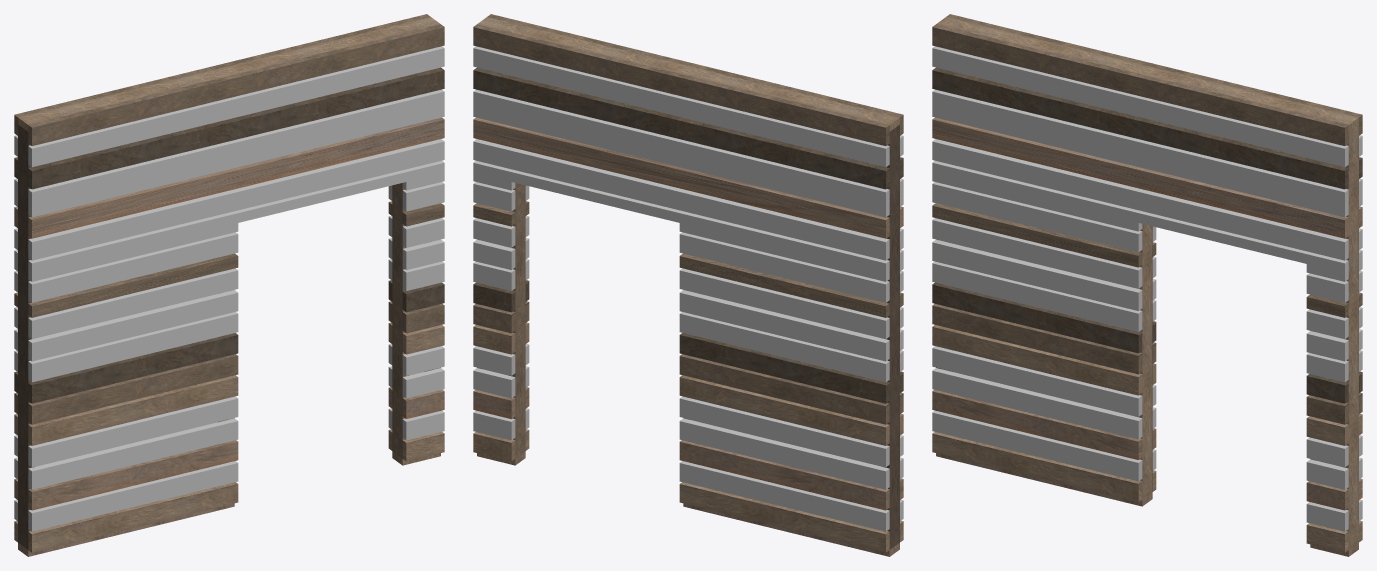
File: WallPeiceDoorwayD.fbx
The picture shows the model from 3 angles, left to right: view 1: azimuth 30°, elevation 25°; view 2: azimuth 150°, elevation 25°; view 3: azimuth 330°, elevation 25°; orthographic projection.
Visible parts, largest first — view 1: WallPeiceDoorwayD; view 2: WallPeiceDoorwayD; view 3: WallPeiceDoorwayD.
Boxes of the visible parts, <box> form: WallPeiceDoorwayD: <box>14,14,444,556</box>; WallPeiceDoorwayD: <box>473,14,903,556</box>; WallPeiceDoorwayD: <box>932,14,1362,556</box>.
Bounding box in the file's own units: 374 × 374 × 28.
